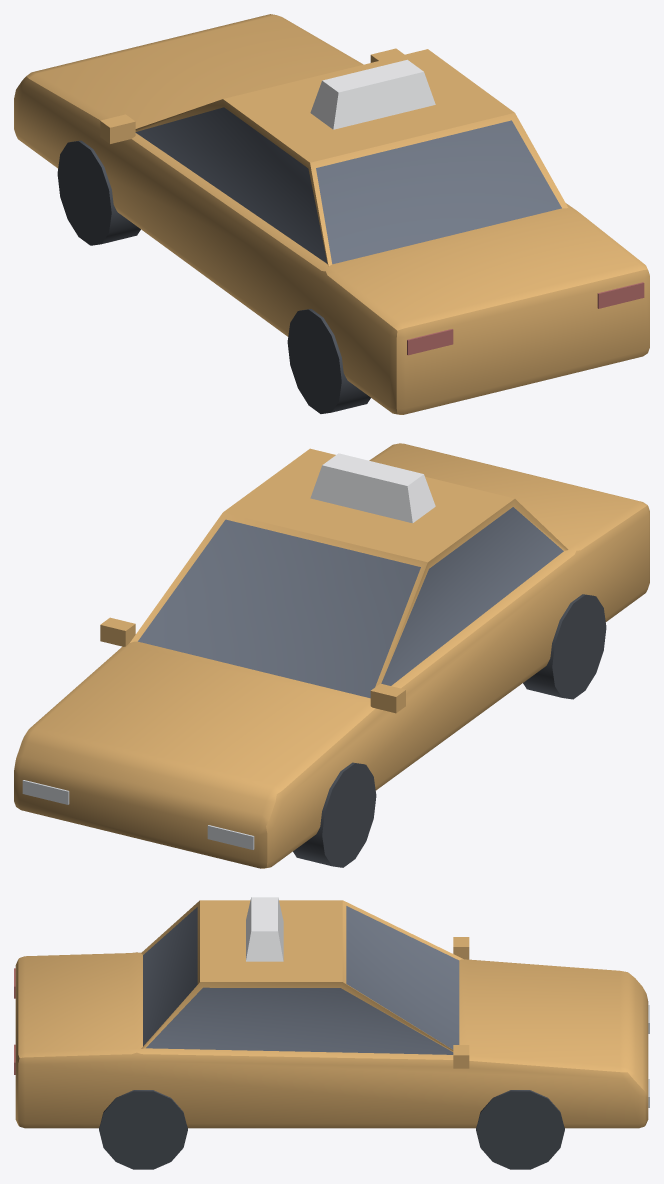
The model's file is taxi.glb.
3 views of the same model, one above another, from view 1: azimuth 30°, elevation 25°; view 2: azimuth 150°, elevation 25°; view 3: azimuth 270°, elevation 25° (orthographic). The views are drawn at different scales.
Visible parts, largest first — view 1: Body, TaxiSign; view 2: Body, TaxiSign; view 3: Body, TaxiSign.
Boxes of the visible parts, x1=… form: Body: x1=14, y1=14, x2=649, y2=414; TaxiSign: x1=310, y1=59, x2=435, y2=129; Body: x1=14, y1=443, x2=649, y2=868; TaxiSign: x1=310, y1=453, x2=435, y2=523; Body: x1=14, y1=900, x2=649, y2=1169; TaxiSign: x1=246, y1=897, x2=283, y2=961.
Size of the model in its own units: 2.08 by 1.66 by 4.72.
